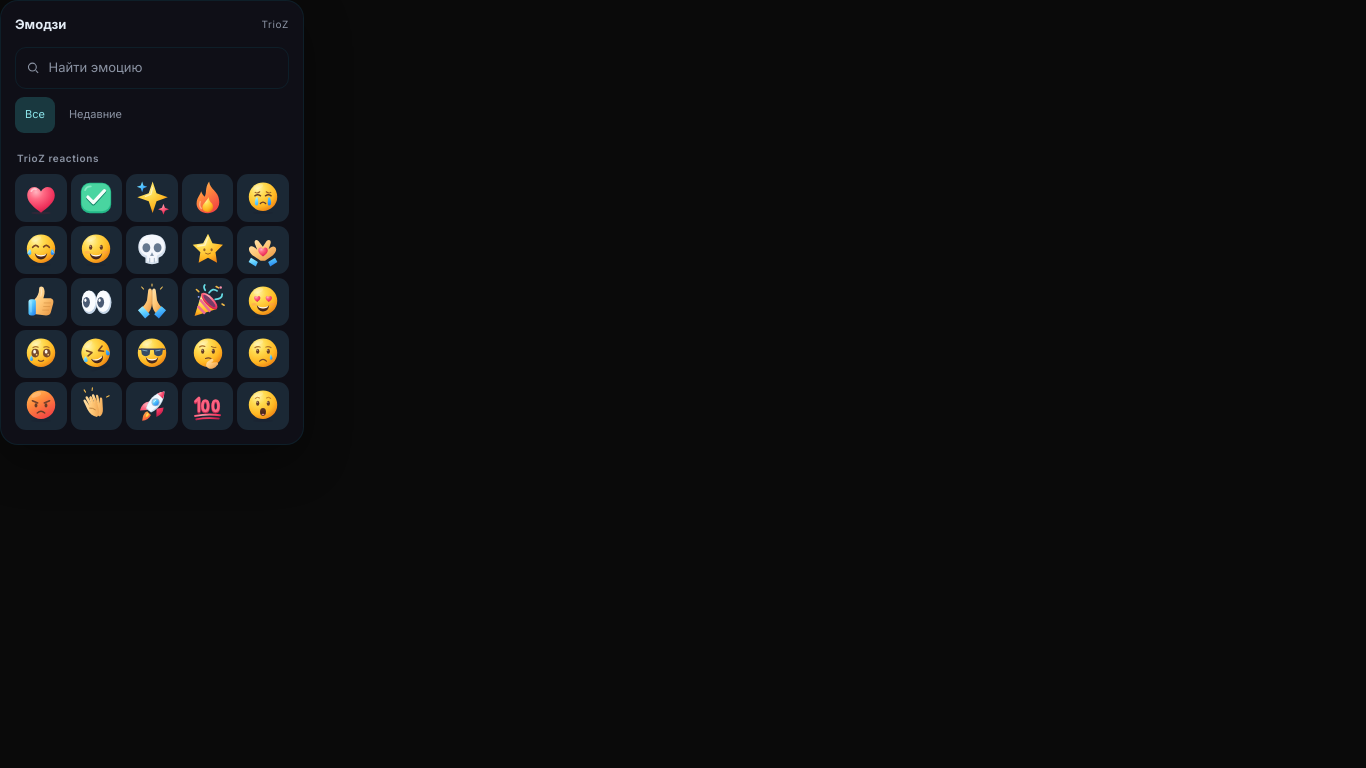
Test: shared searchable picker › announces an empty search
The width and height of the screenshot is (1366, 768).
Step 1. Type "zz-missing" into the search field → [163, 68], box [49,48,278,88]
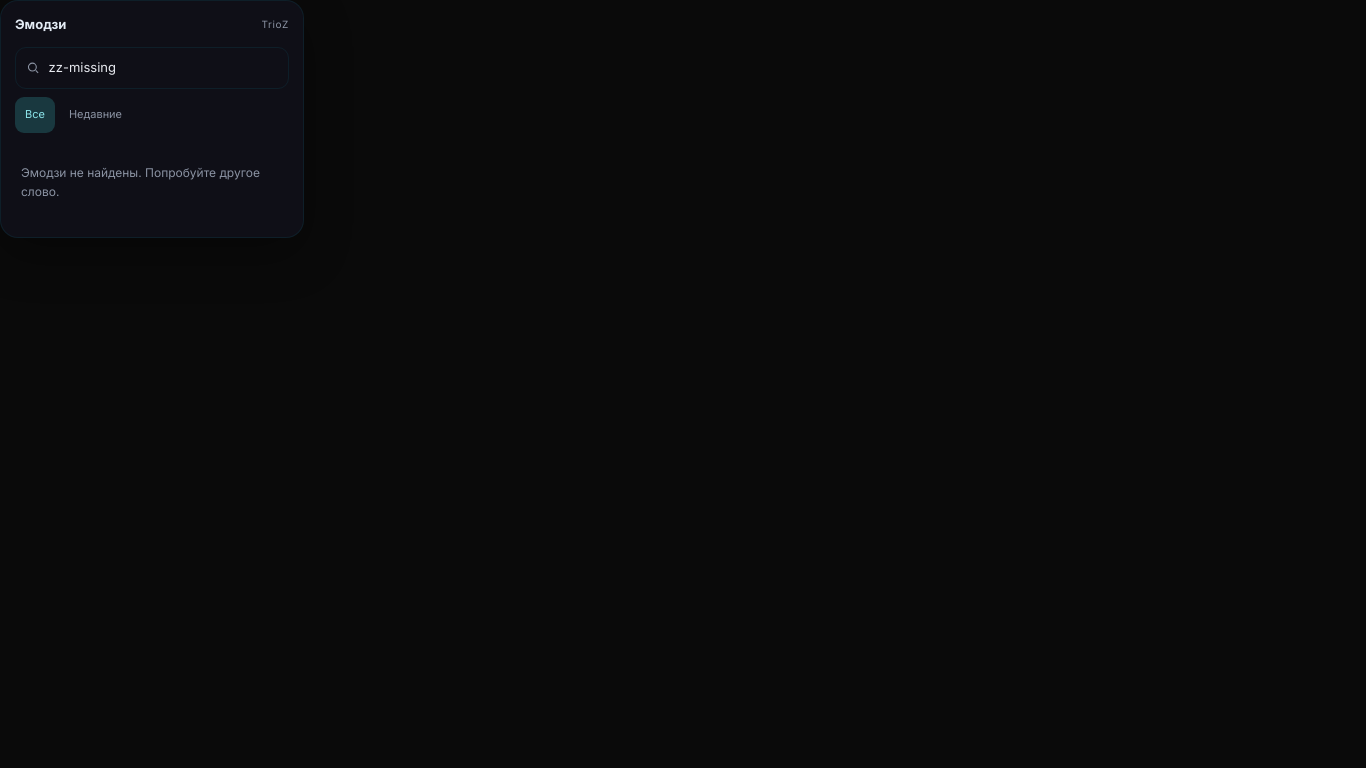
Now the message shows "не найдены", box [21,164,260,199]
